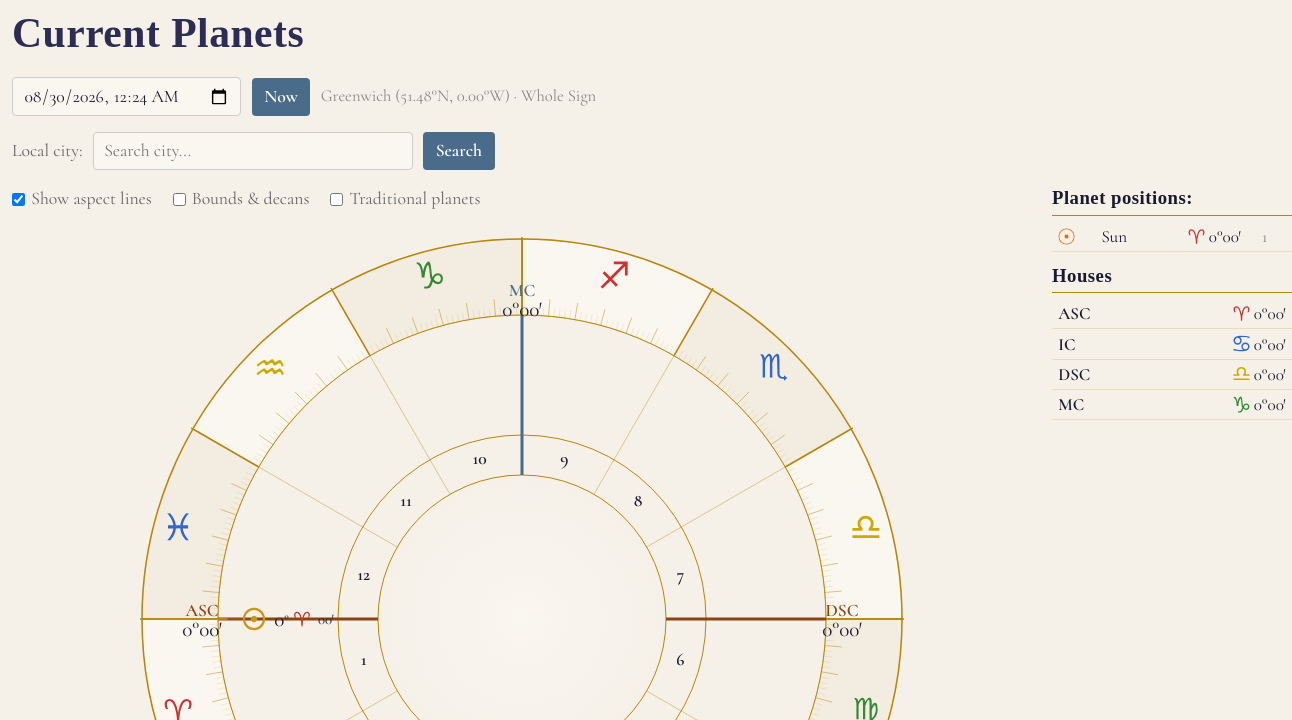
it: CurrentPlanetsView — local city field (issue #38) › recalculates using the selected city's coordinates for houses/Ascendant
Type "Chicago" into the field with placeholder "Search city...". click: point(253, 151)
box: [93,132,413,170]
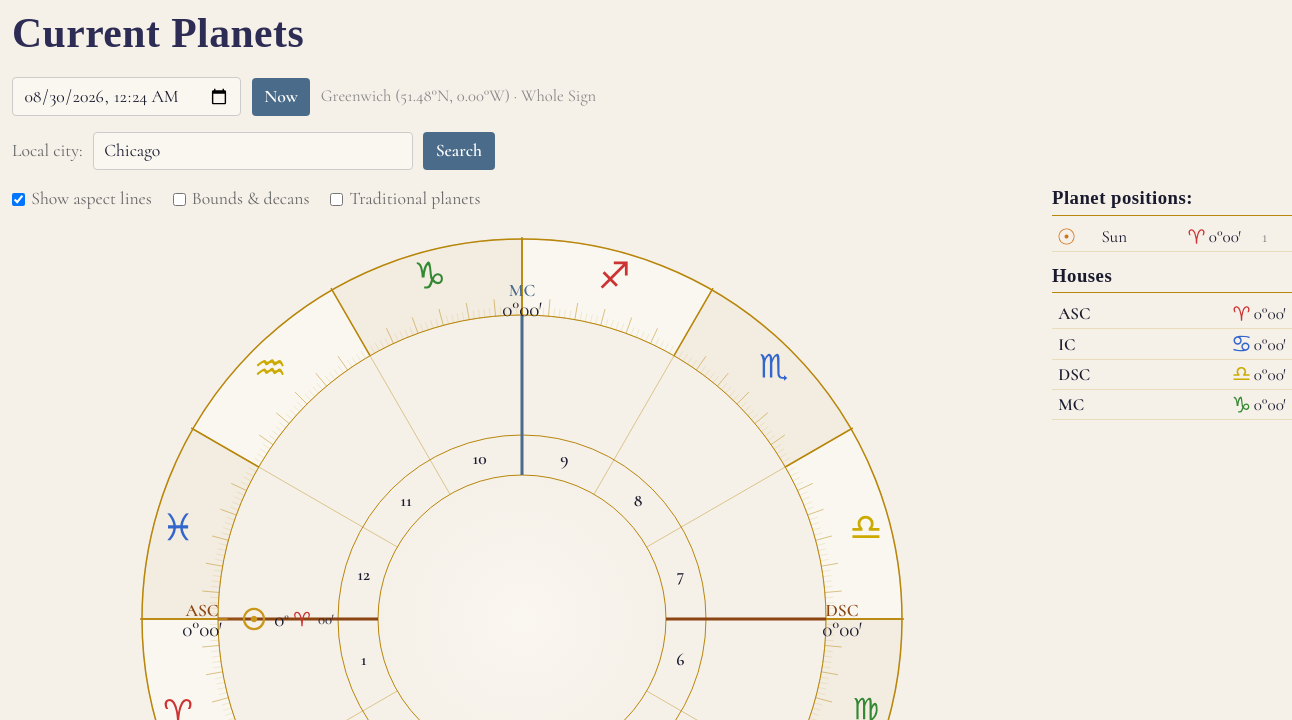
Click the button "Search". click: point(459, 151)
box: [423,132,494,170]
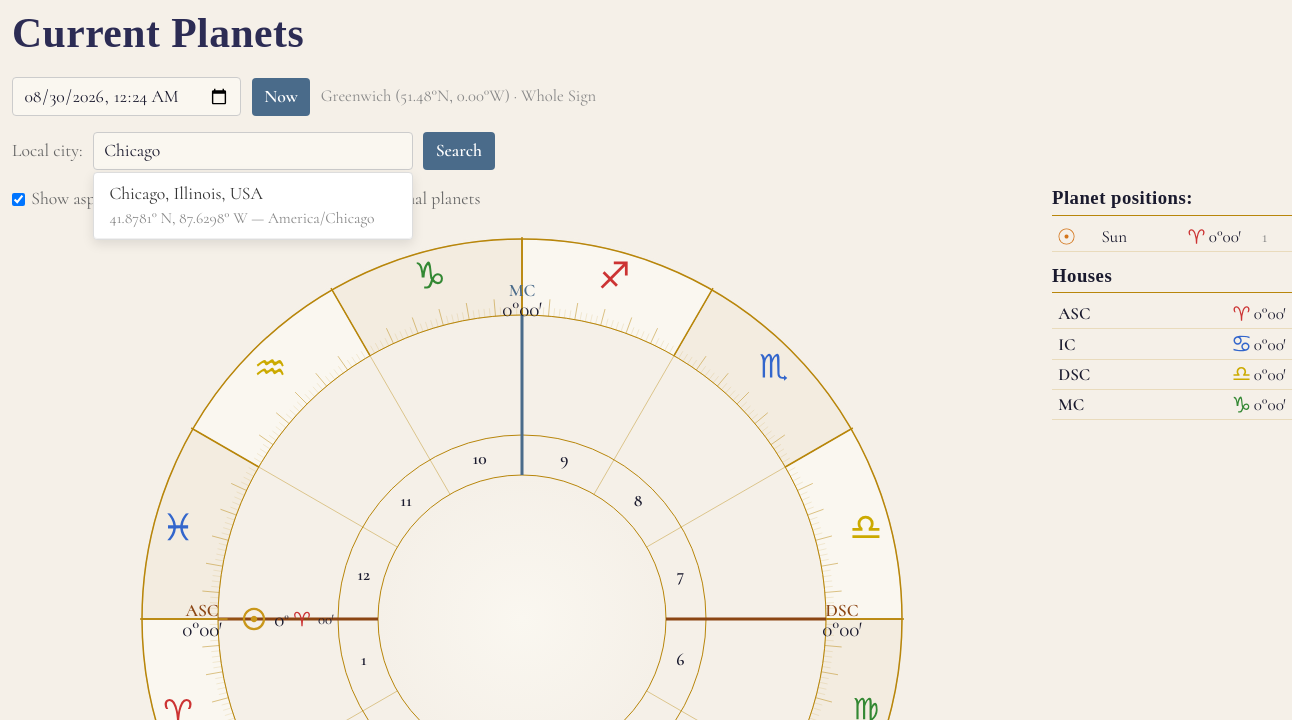
Click the text "Chicago, Illinois, USA". click: point(186, 194)
box: [109,183,263,204]
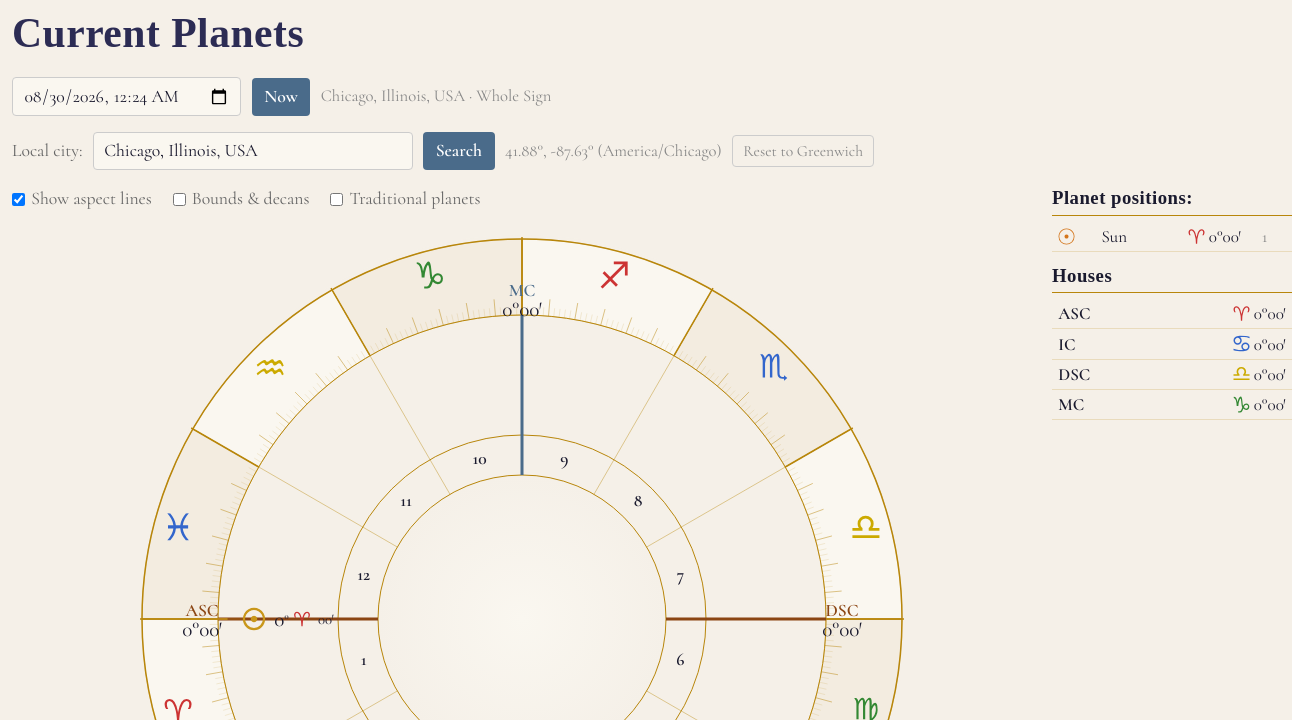
Expected: the text "Chicago, Illinois, USA · Whole Sign" is shown, [321,83,551,110]
Expected: the text "41.88°, -87.63° (America/Chicago)" is shown, [505,138,722,164]
